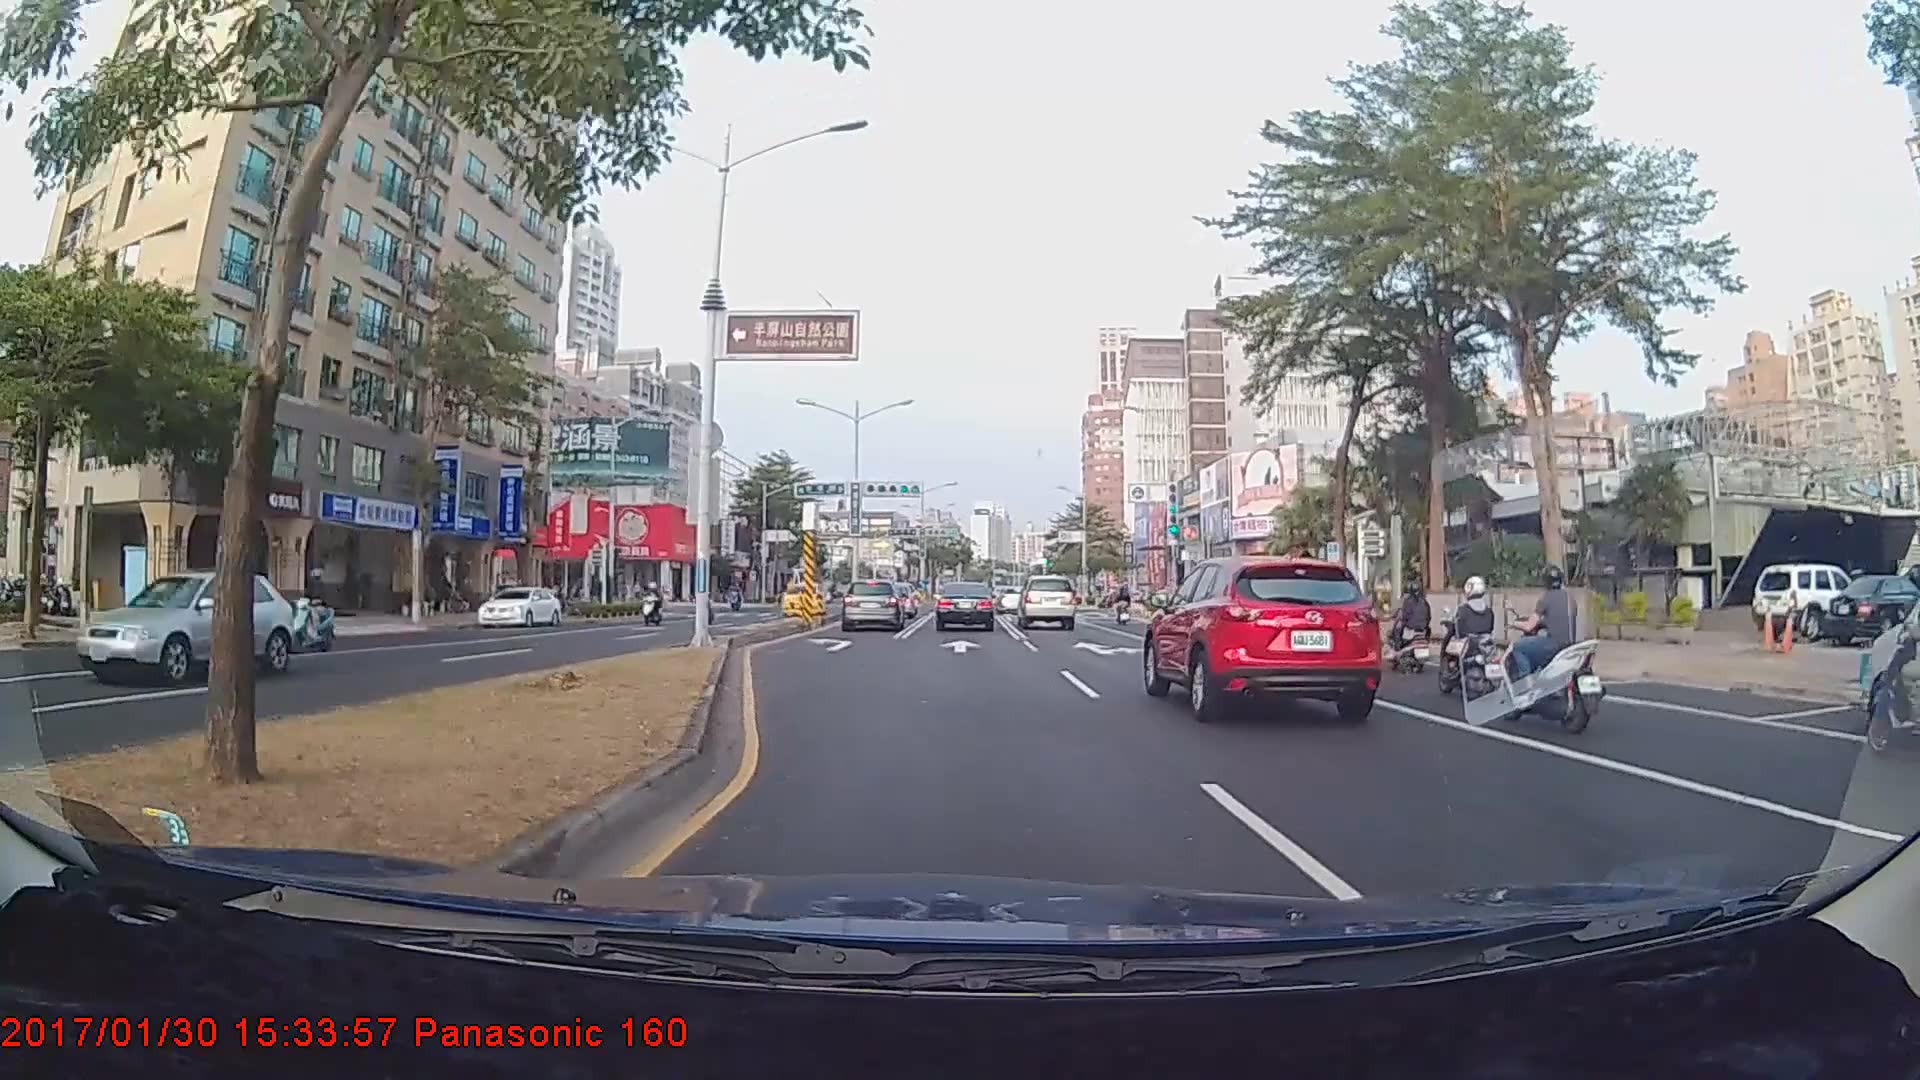rider: (1495, 564, 1610, 736), (1431, 569, 1510, 695), (1377, 573, 1437, 674), (283, 570, 344, 656), (634, 576, 670, 634)
vehicle: (1147, 547, 1384, 719), (74, 566, 291, 692), (1860, 559, 1919, 724), (1750, 563, 1859, 637), (477, 583, 561, 630), (840, 578, 905, 632), (1017, 574, 1077, 630), (934, 580, 995, 632), (780, 581, 827, 616)
